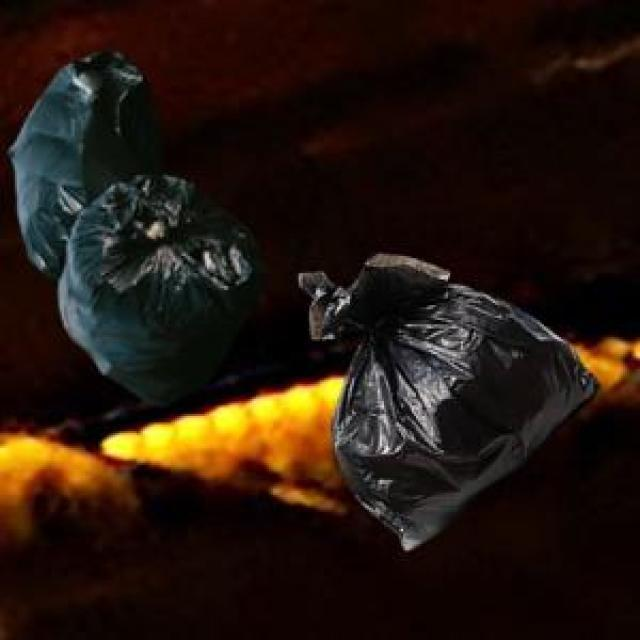miscellaneous trash: (4, 47, 262, 403), (294, 250, 595, 546)
